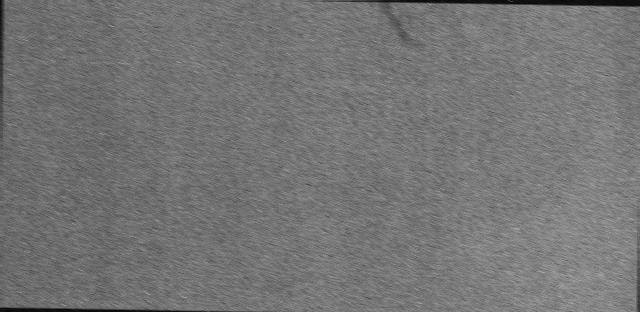water_spot: (346, 0, 431, 72)
